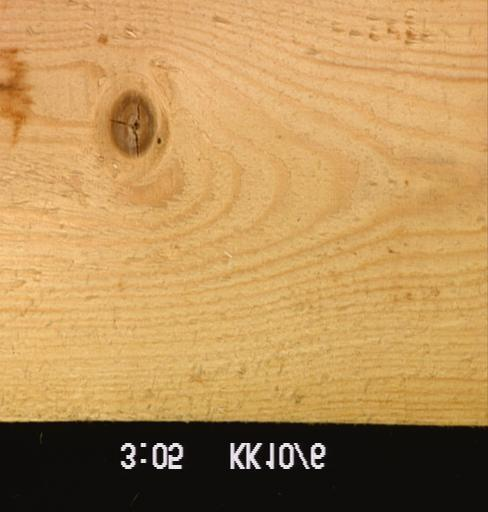sound_knot: (107, 88, 157, 158)
